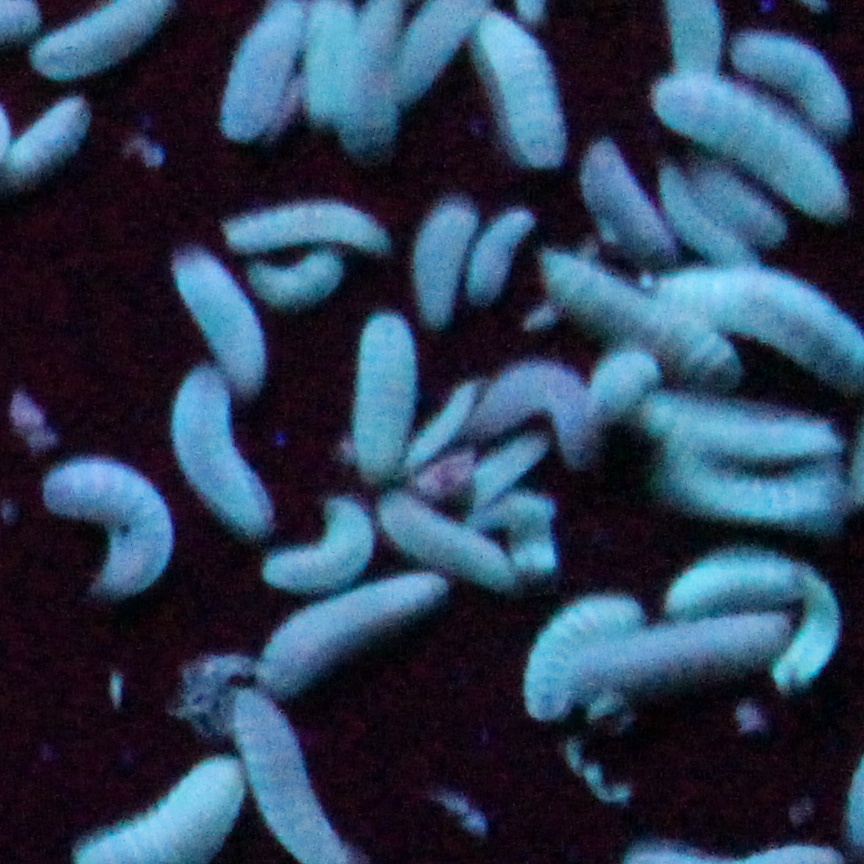larve: (660, 69, 846, 216), (540, 255, 740, 387), (670, 542, 838, 685), (270, 575, 446, 691), (44, 455, 175, 593), (573, 616, 795, 696), (177, 363, 275, 540), (521, 596, 646, 718), (662, 442, 840, 524), (173, 245, 270, 395), (473, 4, 562, 167), (728, 24, 852, 136), (577, 142, 679, 273), (381, 493, 519, 587), (481, 357, 597, 465), (640, 391, 830, 455), (258, 498, 372, 589), (224, 202, 391, 259), (683, 159, 787, 249), (662, 167, 754, 267), (411, 198, 477, 332), (4, 92, 94, 189), (362, 314, 413, 479), (462, 208, 530, 310), (468, 436, 548, 510), (585, 347, 658, 428), (248, 249, 344, 308), (409, 379, 473, 457)
